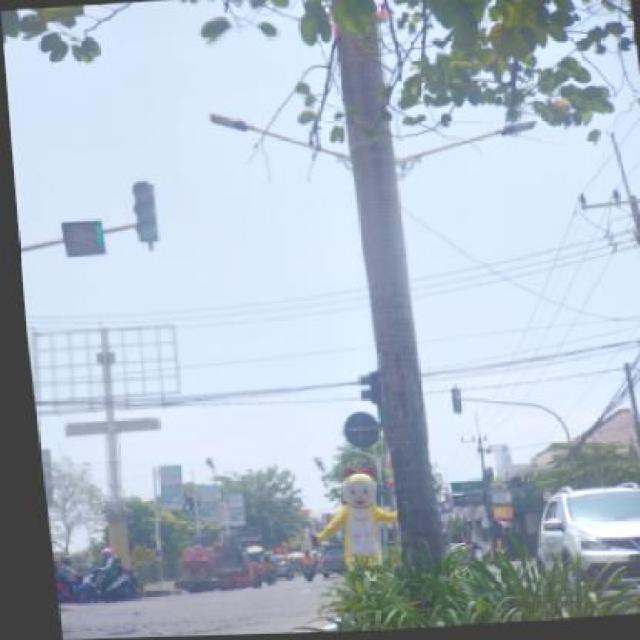green_light: (126, 182, 156, 246)
